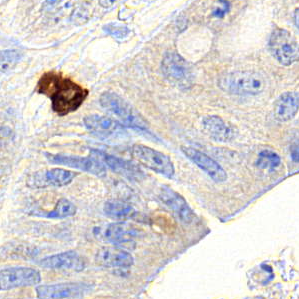Lymphocyte: (36, 70, 88, 114)
